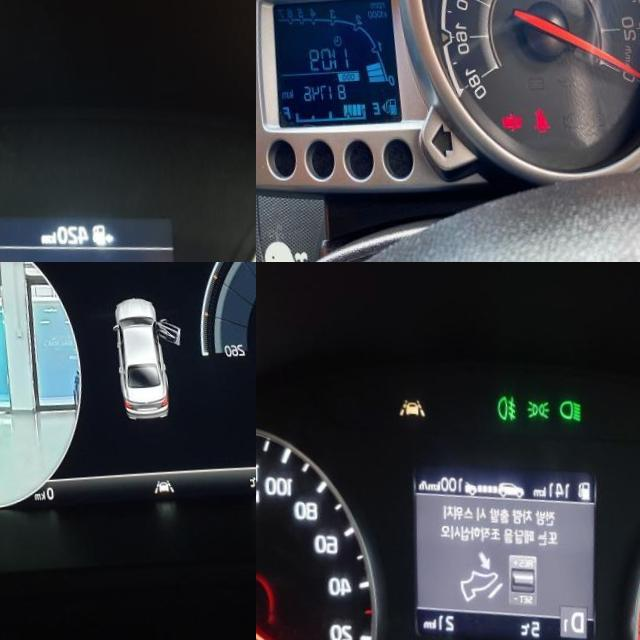Doors: (492, 116, 513, 137)
FrontFogLight: (490, 396, 514, 426)
LaneCenteringOff: (392, 397, 423, 422)
Low beam: (552, 401, 580, 428)
SideLamp: (520, 400, 547, 425)
